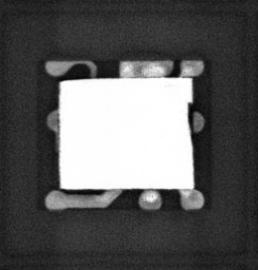DIE_BROKEN: (186, 101, 195, 141)
